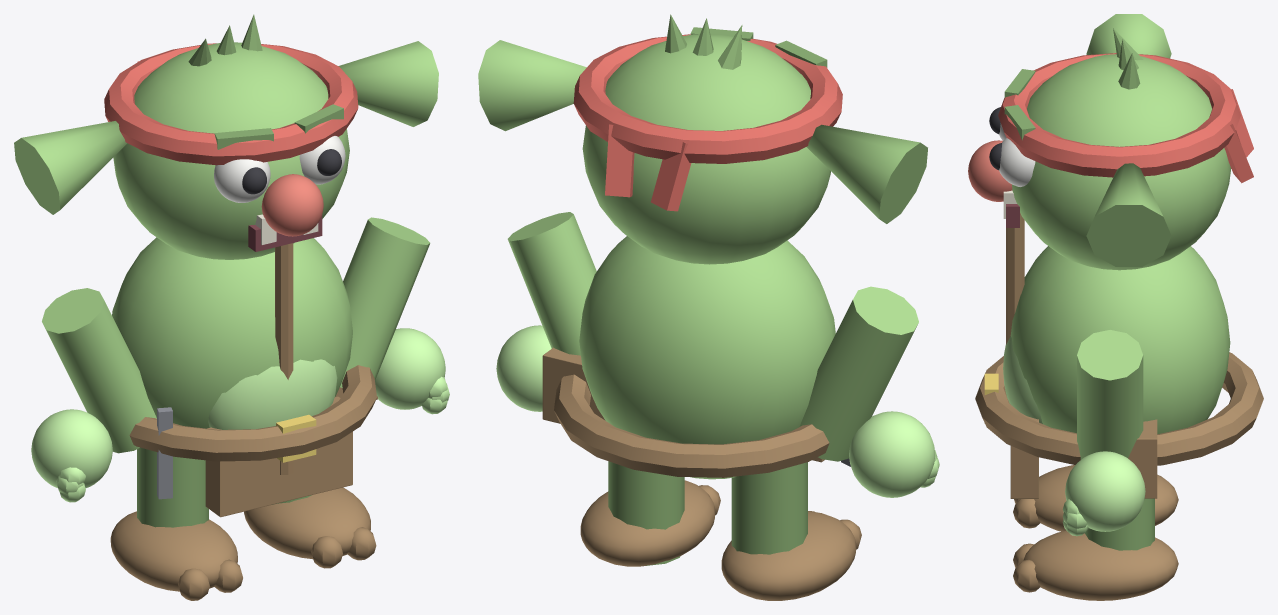
File: troll_scout.glb
The picture shows the model from 3 angles, left to right: view 1: azimuth 30°, elevation 25°; view 2: azimuth 150°, elevation 25°; view 3: azimuth 270°, elevation 25°; orthographic projection. The views are drawn at different scales.
Parts seen in each view (by area): view 1: Scout_Body, Scout_Head, Scout_Bandana, Scout_Arm, Scout_Belt, Scout_Arm.001, Scout_Cloth, Scout_Foot, Scout_Ear, Scout_BellyPatch, Scout_Ear.001, Scout_Foot.001 (+16 smaller); view 2: Scout_Body, Scout_Head, Scout_Bandana, Scout_Arm, Scout_Belt, Scout_Arm.001, Scout_Ear, Scout_Foot, Scout_Ear.001, Scout_Leg, Scout_Foot.001, Scout_Hand (+6 smaller); view 3: Scout_Body, Scout_Head, Scout_Bandana, Scout_Belt, Scout_Arm.001, Scout_Foot.001, Scout_Ear.001, Scout_Hand.001, Scout_Ear, Scout_Foot, Scout_Leg.001, Scout_Strap (+12 smaller).
Boxes of the visible parts, left/top/right/bottom form: Scout_Body: left=112, top=237, right=352, bottom=428; Scout_Head: left=113, top=42, right=349, bottom=259; Scout_Bandana: left=104, top=43, right=358, bottom=165; Scout_Arm: left=42, top=288, right=156, bottom=453; Scout_Belt: left=129, top=365, right=376, bottom=461; Scout_Arm.001: left=340, top=217, right=430, bottom=387; Scout_Cloth: left=205, top=396, right=352, bottom=517; Scout_Foot: left=110, top=511, right=237, bottom=591; Scout_Ear: left=14, top=121, right=127, bottom=214; Scout_BellyPatch: left=208, top=359, right=337, bottom=429; Scout_Ear.001: left=338, top=41, right=438, bottom=126; Scout_Foot.001: left=244, top=487, right=370, bottom=559; Scout_Body: left=579, top=236, right=835, bottom=479; Scout_Head: left=582, top=34, right=830, bottom=264; Scout_Bandana: left=573, top=34, right=842, bottom=163; Scout_Arm: left=799, top=286, right=918, bottom=461; Scout_Belt: left=554, top=374, right=829, bottom=477; Scout_Arm.001: left=507, top=212, right=596, bottom=355; Scout_Ear: left=806, top=124, right=927, bottom=223; Scout_Foot: left=721, top=511, right=856, bottom=600; Scout_Ear.001: left=478, top=40, right=586, bottom=131; Scout_Leg: left=731, top=462, right=807, bottom=554; Scout_Foot.001: left=580, top=480, right=715, bottom=566; Scout_Hand: left=849, top=411, right=935, bottom=497; Scout_Body: left=1010, top=246, right=1230, bottom=434; Scout_Head: left=1012, top=54, right=1231, bottom=270; Scout_Bandana: left=998, top=53, right=1240, bottom=177; Scout_Belt: left=975, top=352, right=1263, bottom=465; Scout_Arm.001: left=1077, top=330, right=1143, bottom=459; Scout_Foot.001: left=1023, top=530, right=1178, bottom=600; Scout_Ear.001: left=1086, top=163, right=1171, bottom=266; Scout_Hand.001: left=1065, top=451, right=1145, bottom=531; Scout_Ear: left=1086, top=14, right=1171, bottom=58; Scout_Foot: left=1034, top=465, right=1178, bottom=531; Scout_Leg.001: left=1085, top=498, right=1154, bottom=550; Scout_Strap: left=1006, top=213, right=1024, bottom=344.
Bounding box in the file's own units: 0.8245 × 1.03 × 0.5312.
